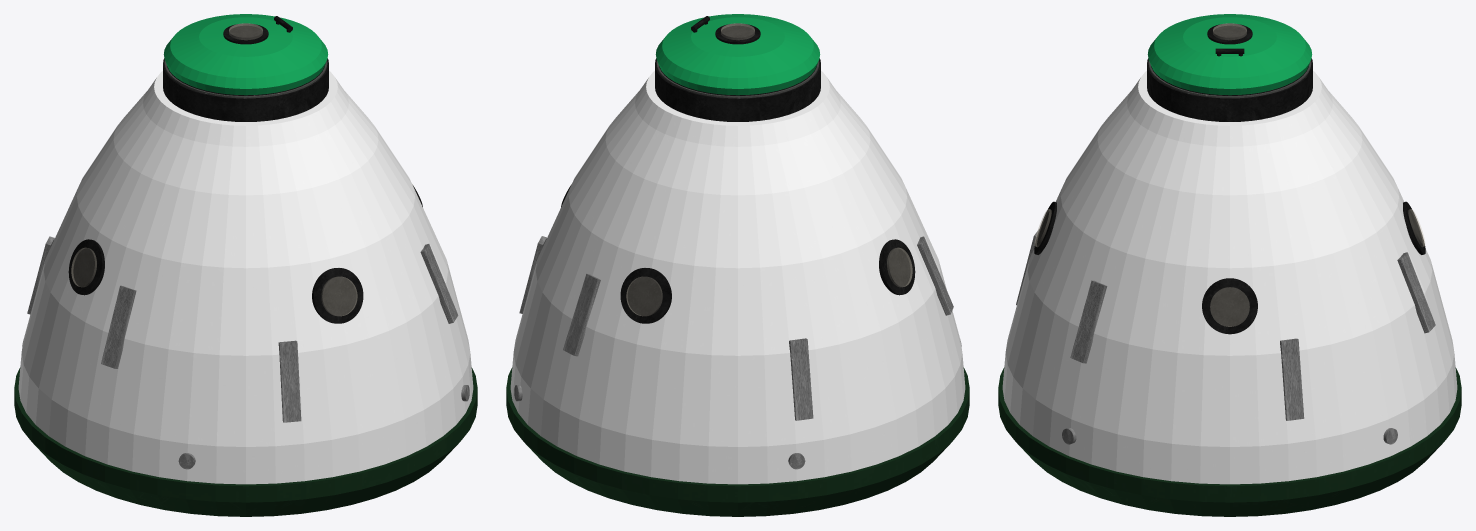
The model's file is Astronomy_Return_capsule__0074.glb.
The picture shows the model from 3 angles, left to right: view 1: azimuth 30°, elevation 25°; view 2: azimuth 150°, elevation 25°; view 3: azimuth 270°, elevation 25°; orthographic projection.
Parts seen in each view (by area): view 1: capsule::bell_body, shield::heat_shield, hatch::lid_shell, capsule::hatch_collar, capsule::porthole_rim_3, capsule::porthole_rim_2, capsule::scorch_streak_4, capsule::scorch_streak_3, capsule::porthole_glass_3, capsule::scorch_streak_5, hatch::viewport_rim, capsule::porthole_glass_2 (+1 smaller); view 2: capsule::bell_body, shield::heat_shield, hatch::lid_shell, capsule::hatch_collar, capsule::porthole_rim_1, capsule::porthole_rim_2, capsule::scorch_streak_2, capsule::scorch_streak_1, capsule::porthole_glass_1, capsule::scorch_streak_3, hatch::viewport_rim, capsule::porthole_glass_2 (+1 smaller); view 3: capsule::bell_body, shield::heat_shield, hatch::lid_shell, capsule::hatch_collar, capsule::porthole_rim_0, capsule::scorch_streak_0, capsule::scorch_streak_5, capsule::porthole_glass_0, capsule::scorch_streak_1, hatch::viewport_rim, capsule::porthole_rim_1, capsule::porthole_rim_3 (+1 smaller).
Boxes of the visible parts, x1,y1,x2,y2 form: capsule::bell_body: (18,71,473,484); shield::heat_shield: (14,367,477,516); hatch::lid_shell: (163,14,328,95); capsule::hatch_collar: (163,58,328,121); capsule::porthole_rim_3: (312,268,363,323); capsule::porthole_rim_2: (68,239,104,295); capsule::scorch_streak_4: (278,340,301,422); capsule::scorch_streak_3: (101,285,136,368); capsule::porthole_glass_3: (321,277,357,315); capsule::scorch_streak_5: (420,244,458,323); hatch::viewport_rim: (223,23,268,44); capsule::porthole_glass_2: (71,248,96,286); capsule::bell_body: (510,71,965,484); shield::heat_shield: (506,367,969,516); hatch::lid_shell: (655,14,820,95); capsule::hatch_collar: (655,58,820,121); capsule::porthole_rim_1: (620,268,671,323); capsule::porthole_rim_2: (879,239,915,295); capsule::scorch_streak_2: (789,338,813,420); capsule::scorch_streak_1: (563,273,600,356); capsule::porthole_glass_1: (626,277,662,315); capsule::scorch_streak_3: (917,236,953,315); hatch::viewport_rim: (715,23,760,44); capsule::porthole_glass_2: (887,248,912,286); capsule::bell_body: (1002,71,1457,484); shield::heat_shield: (998,367,1461,516); hatch::lid_shell: (1147,14,1312,95); capsule::hatch_collar: (1147,58,1312,121); capsule::porthole_rim_0: (1202,278,1257,334); capsule::scorch_streak_0: (1280,338,1304,420); capsule::scorch_streak_5: (1070,280,1107,363); capsule::porthole_glass_0: (1210,287,1249,326); capsule::scorch_streak_1: (1397,252,1435,333); hatch::viewport_rim: (1207,23,1252,44); capsule::porthole_rim_1: (1403,201,1425,254); capsule::porthole_rim_3: (1034,201,1056,254).
Bounding box in the file's own units: 2.56 × 2.56 × 2.56.
8 materials, 6 textured.
